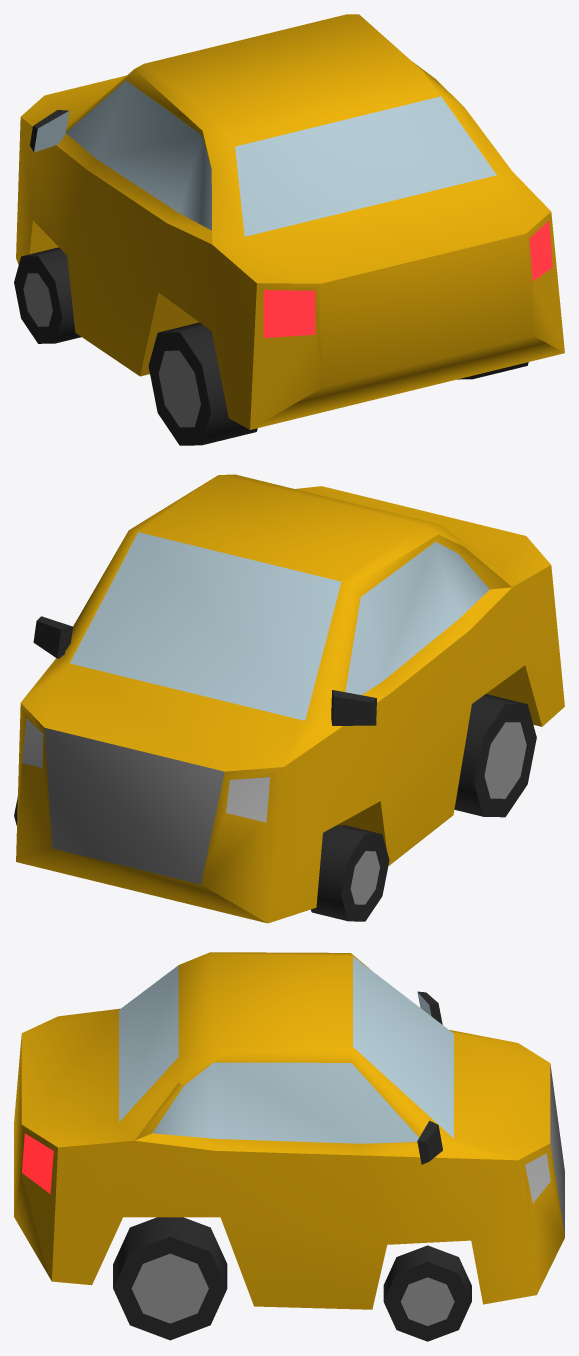
Rendered from car_medium.fbx.
3 views of the same model, one above another, from view 1: azimuth 30°, elevation 25°; view 2: azimuth 150°, elevation 25°; view 3: azimuth 270°, elevation 25° (orthographic). The views are drawn at different scales.
Visible parts, largest first — view 1: taxi; view 2: taxi; view 3: taxi.
Part boxes in pixels (box(x1,y1,x2,y2)): taxi: box(14, 14, 564, 445); taxi: box(14, 474, 564, 923); taxi: box(14, 952, 564, 1341).
Size of the model in its own units: 0.2415 by 0.2007 by 0.3728.
